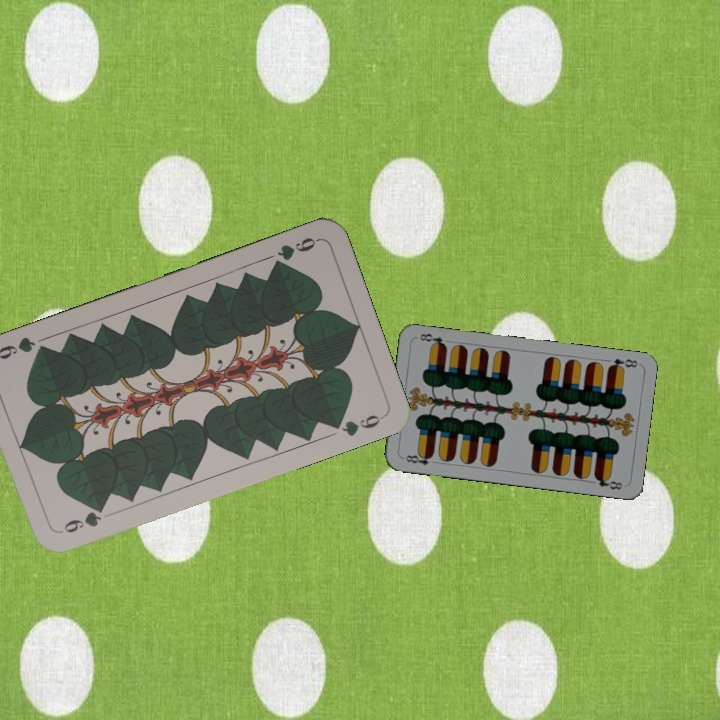E8: (399, 449, 436, 468), (604, 354, 640, 373)
G9: (268, 233, 322, 271), (56, 501, 108, 536)
